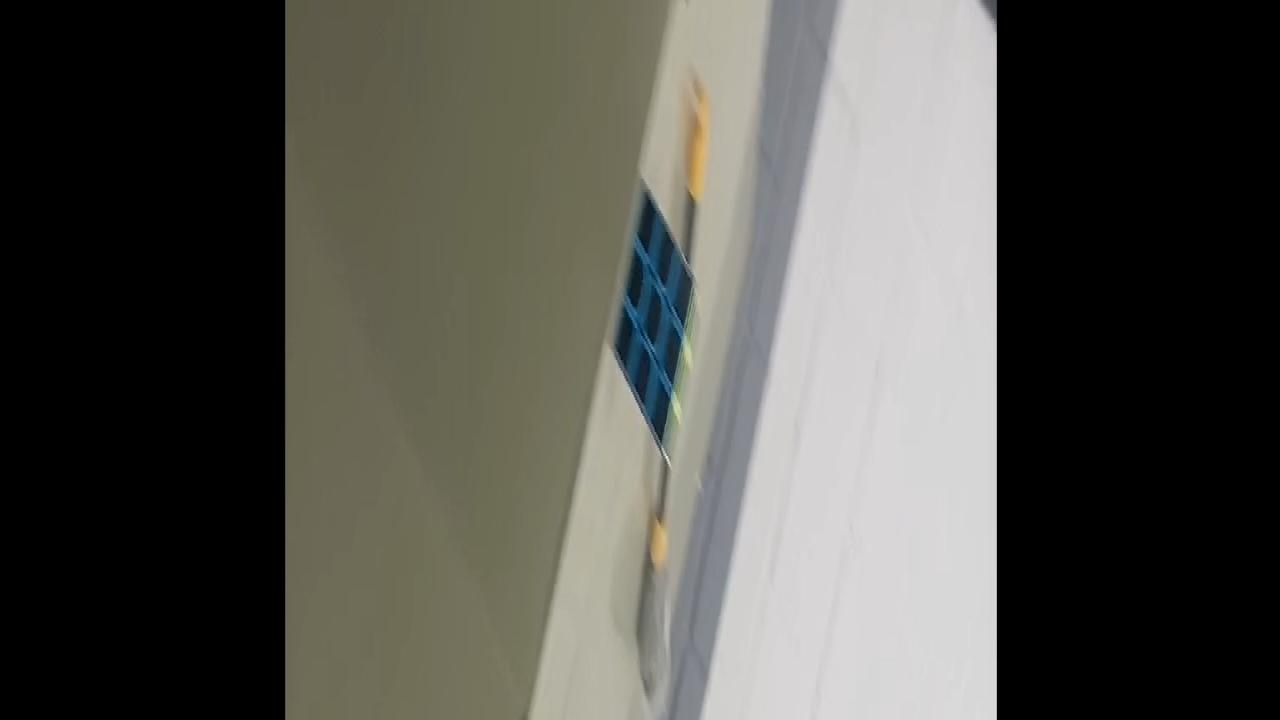Cube: (608, 174, 702, 470)
